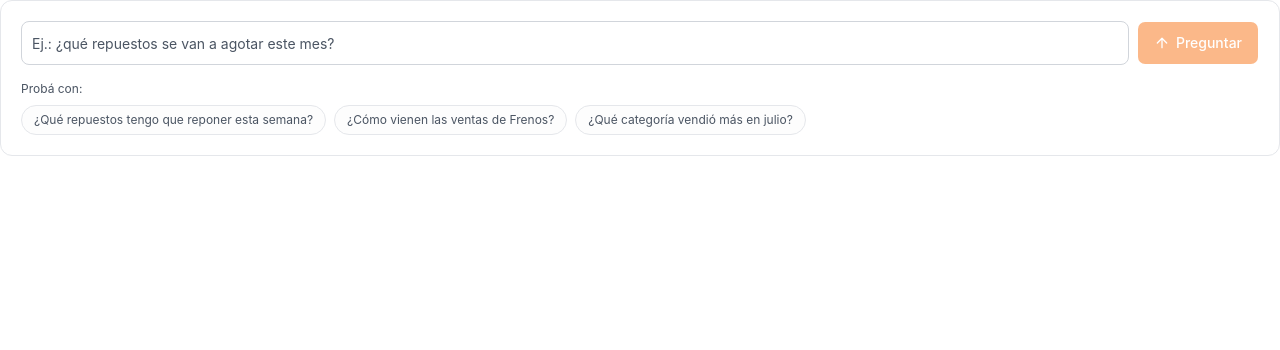
Test: preguntarle al dashboard (HU 6.4) › warns when the AI does not answer
In the field named "Tu pregunta": point(575, 43) [21,21,1129,65], type "¿Cómo vienen las ventas?"
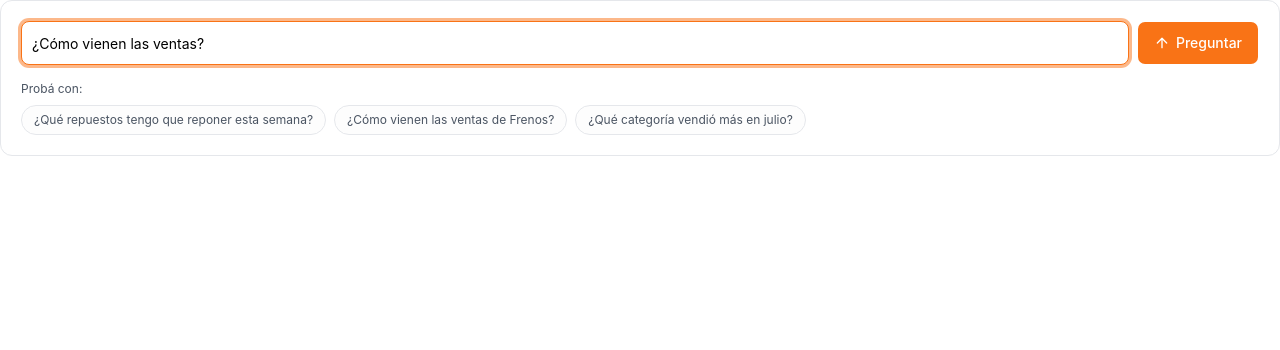
Click the button "Preguntar": point(1198, 43) [1137,21,1259,65]
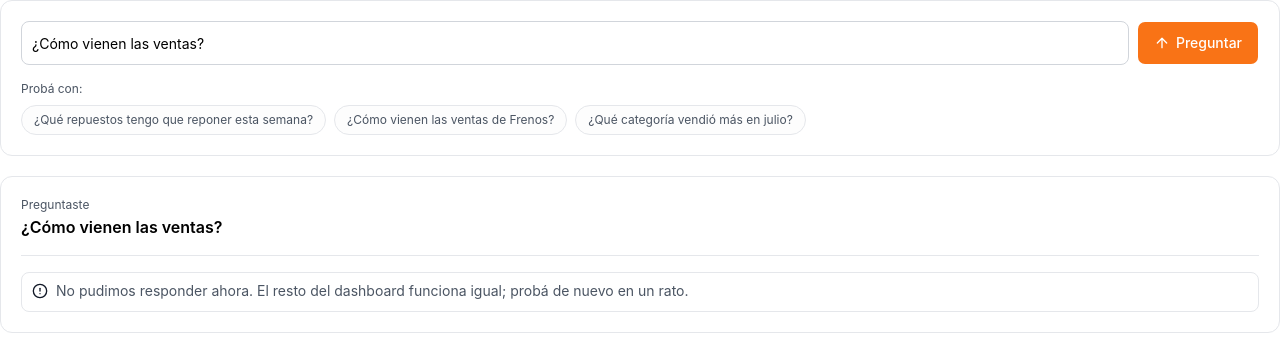
Check: the text "No pudimos responder ahora" is shown, box [56,282,688,299]
